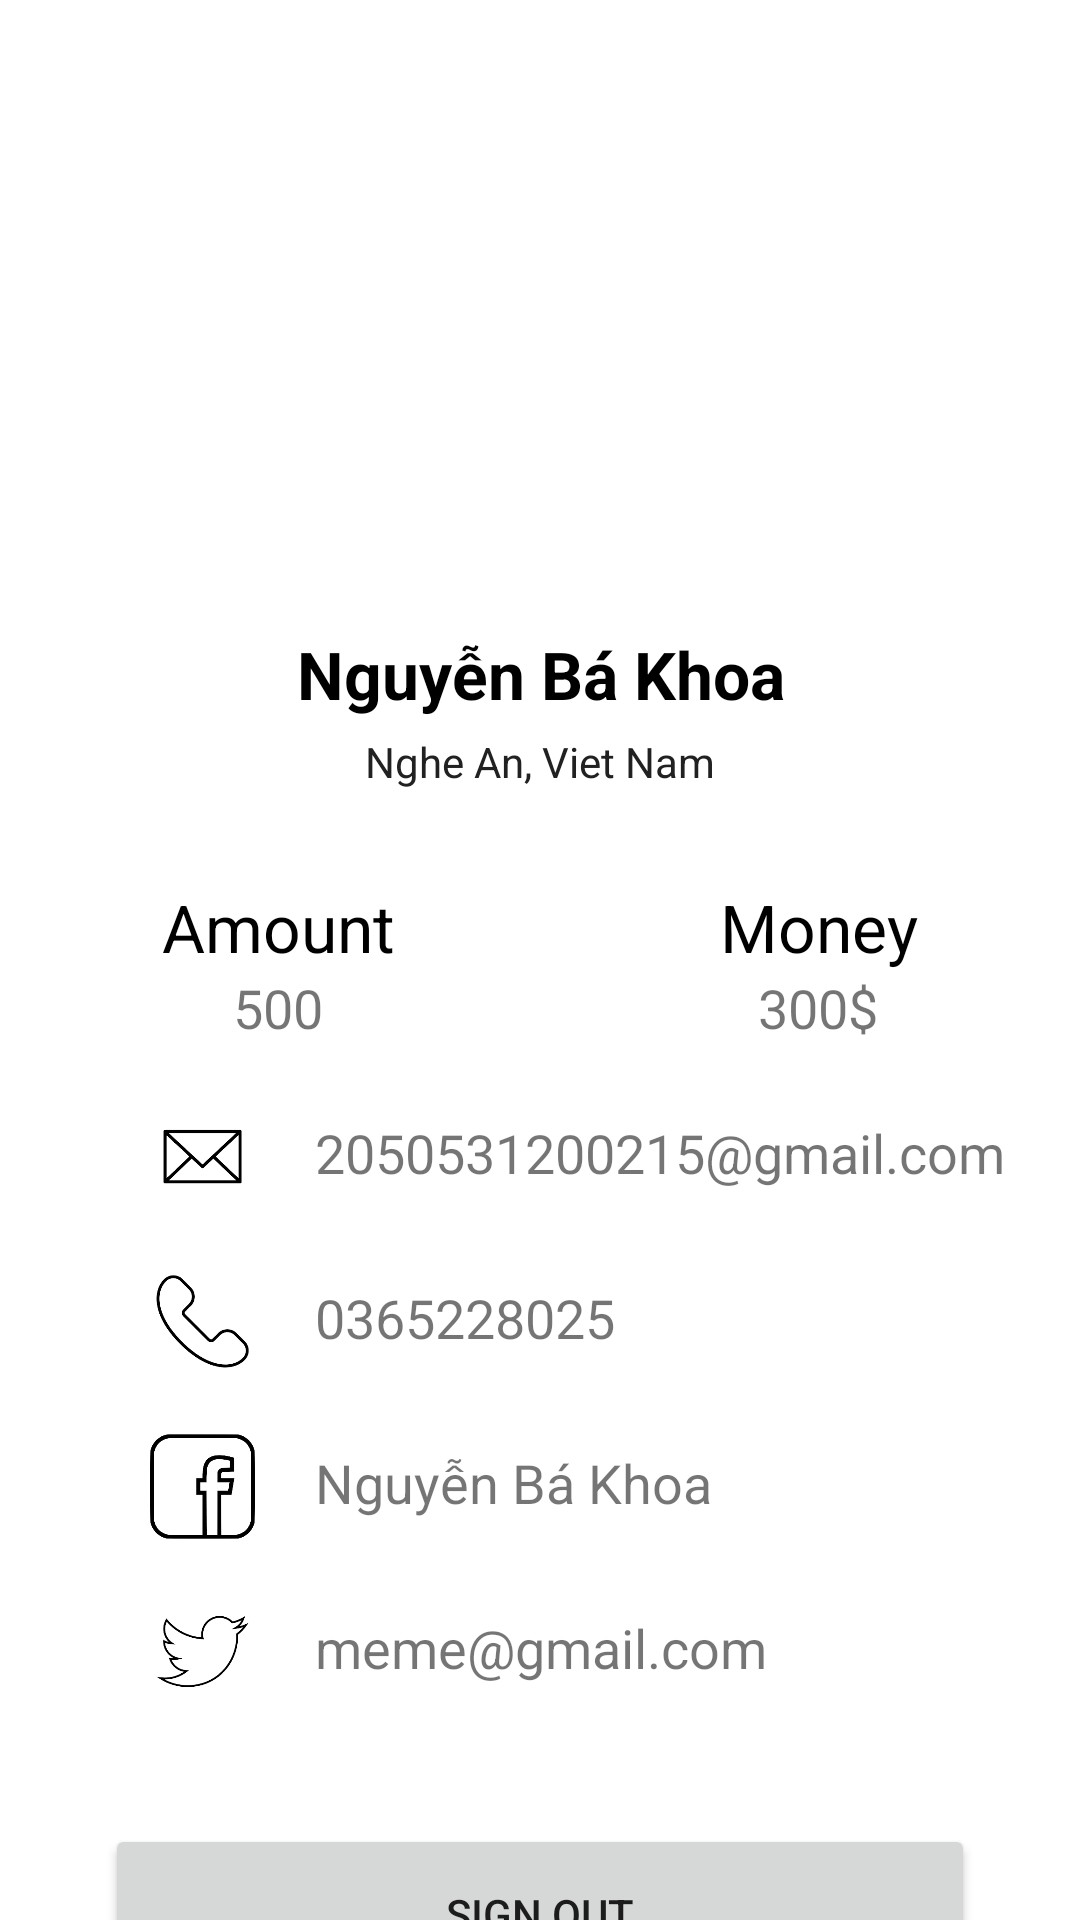

Where icons sit on this 1080*1920 app screen, as (x1, y1, x2, y2):
phone: (156, 1275, 249, 1368)
